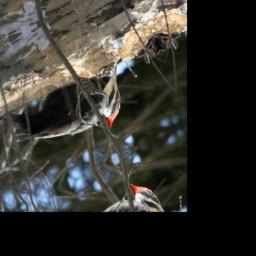Woodpecker: (0, 57, 136, 182)
